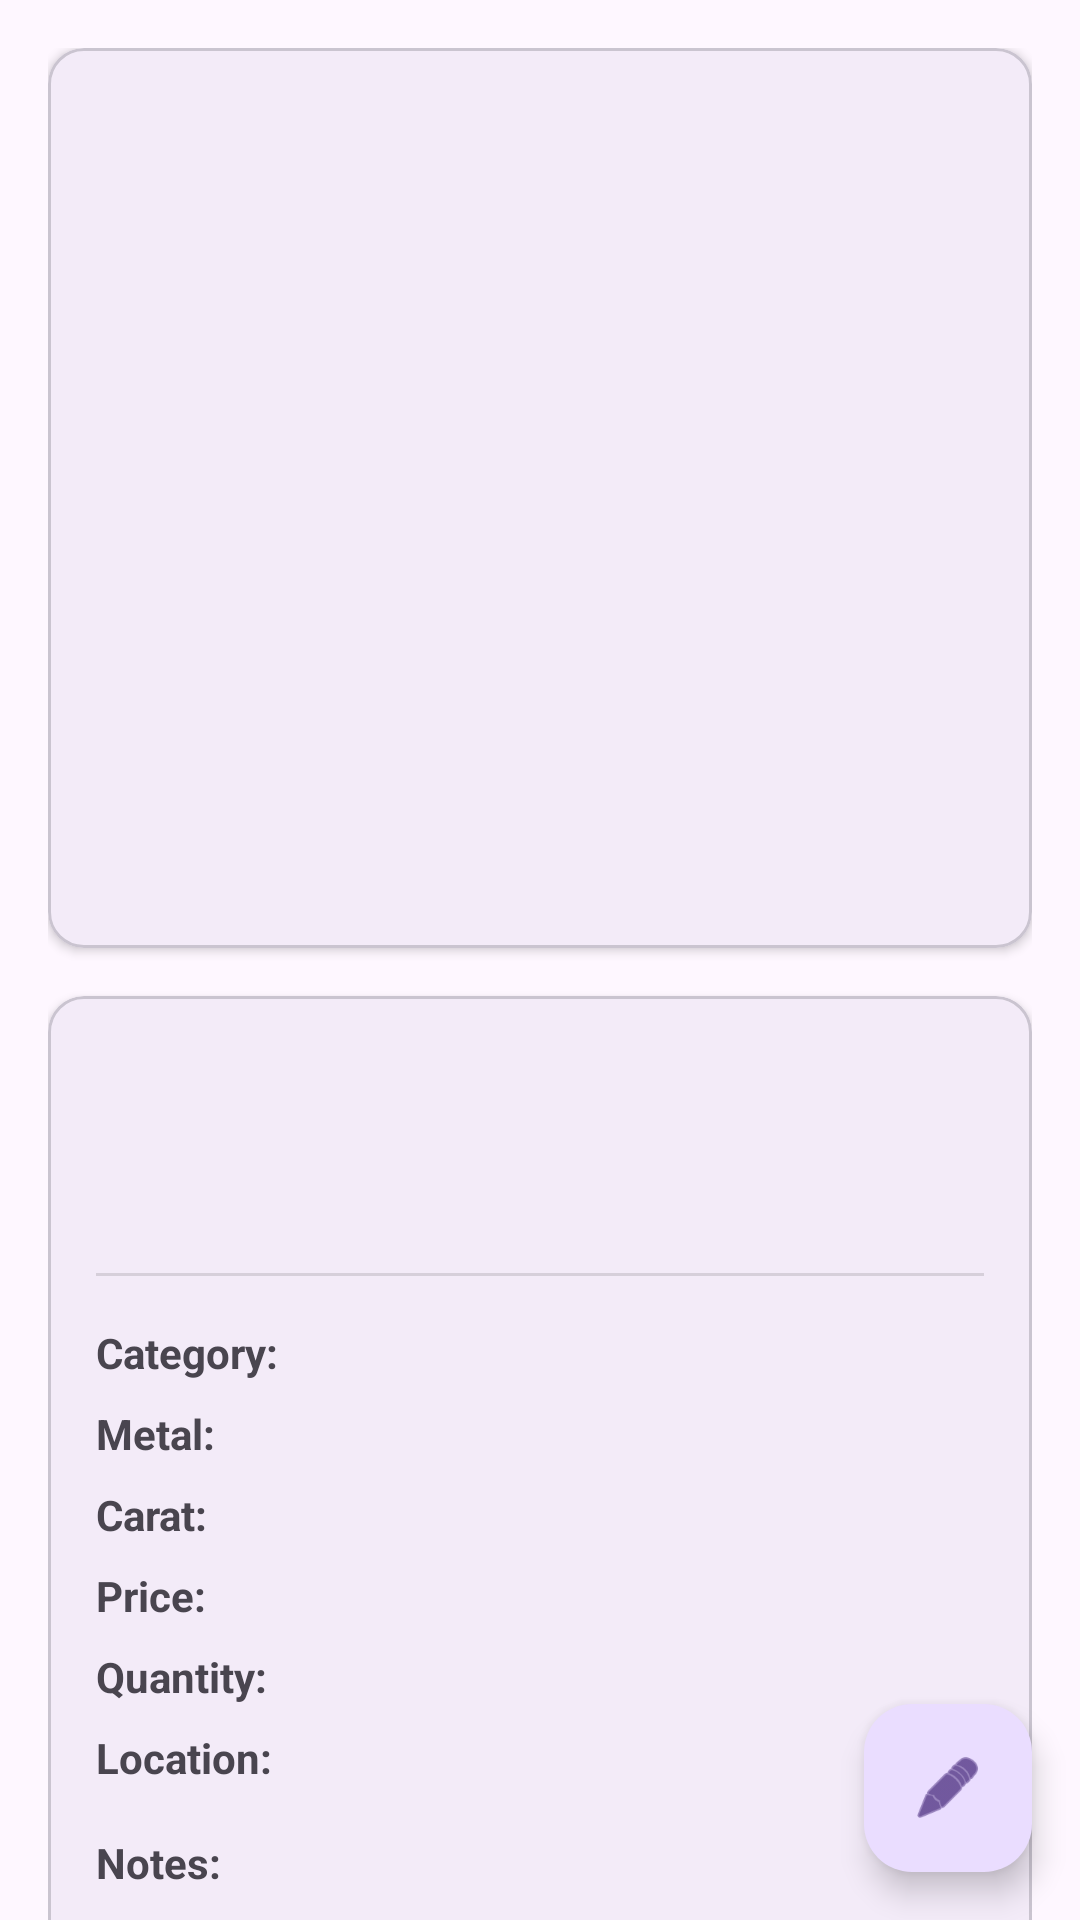

Icon bounding boxes for this 1080×1920 phone screenshot, format (x1, y1, x2, y2):
Edit Item: (864, 1704, 1032, 1872)
